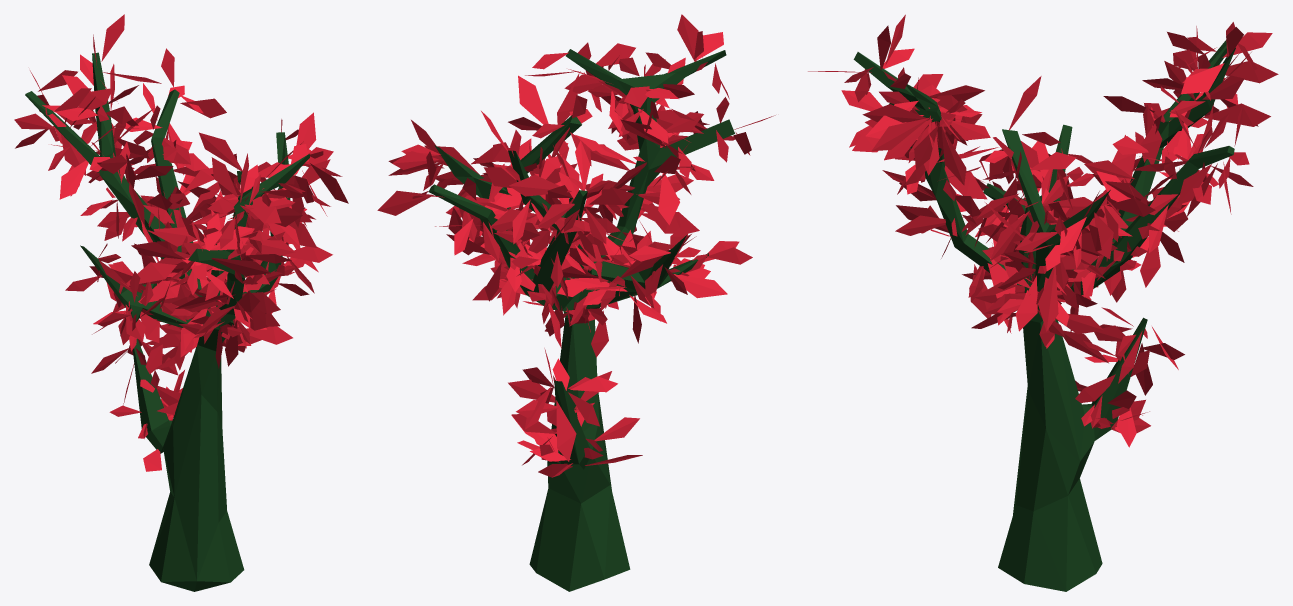
3 renders of one model, left to right at view 1: azimuth 30°, elevation 25°; view 2: azimuth 150°, elevation 25°; view 3: azimuth 270°, elevation 25°, orthographic. The views are drawn at different scales.
Visible parts, largest first — view 1: Drzewo2; view 2: Drzewo2; view 3: Drzewo2.
Part boxes in pixels (left/top/right/bottom): Drzewo2: left=14, top=14, right=348, bottom=591; Drzewo2: left=377, top=14, right=775, bottom=591; Drzewo2: left=808, top=14, right=1278, bottom=591.
Bounding box in the file's own units: 1567 × 2572 × 1980.
